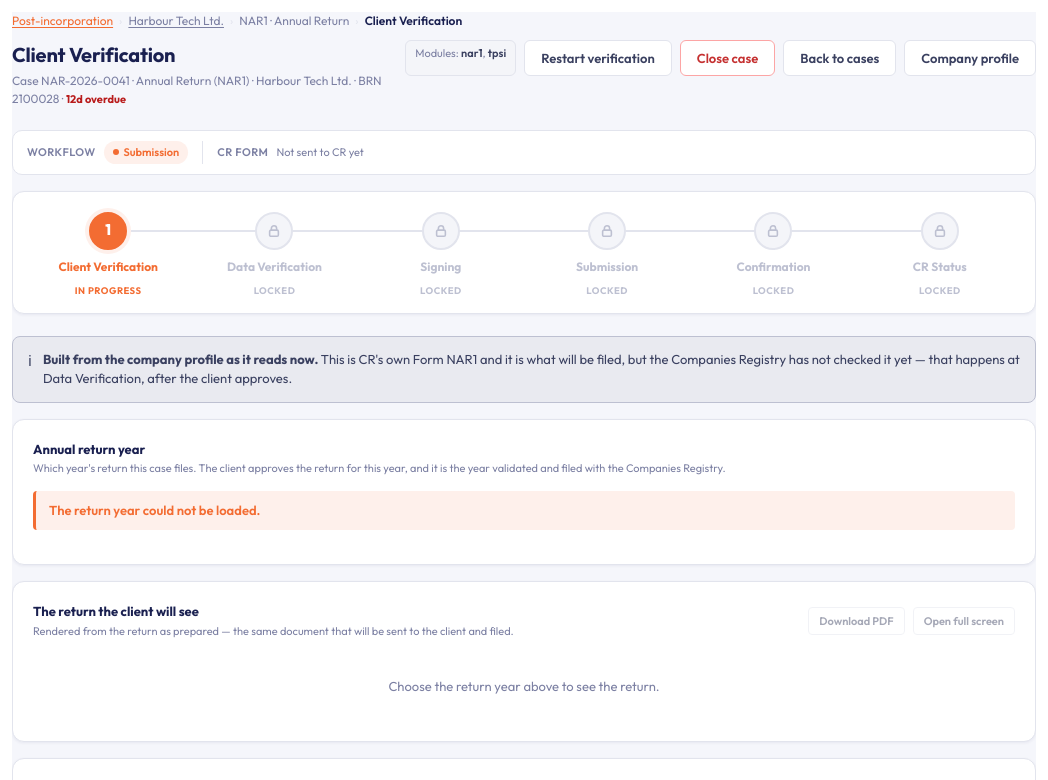
Test case: CaseWorkflowPage — the stage gate is enforced, not just drawn › refuses to open a locked stage and says what would unlock it
expect the text "NAR-2026-0041" is shown: met, box [41,73,130,88]
Click the tab "Submission Locked": (607, 230) [524,212,690,297]
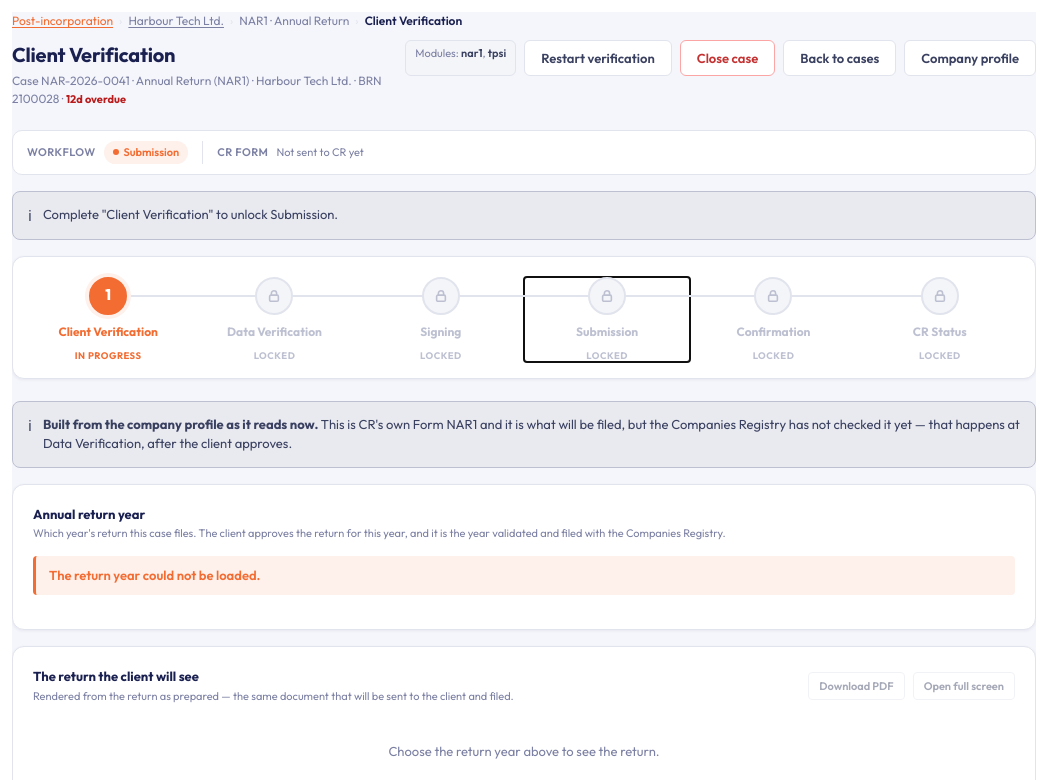
expect the text "Complete \"Client Verification\" to unlock Submission." is shown: met, box [43,204,338,224]
